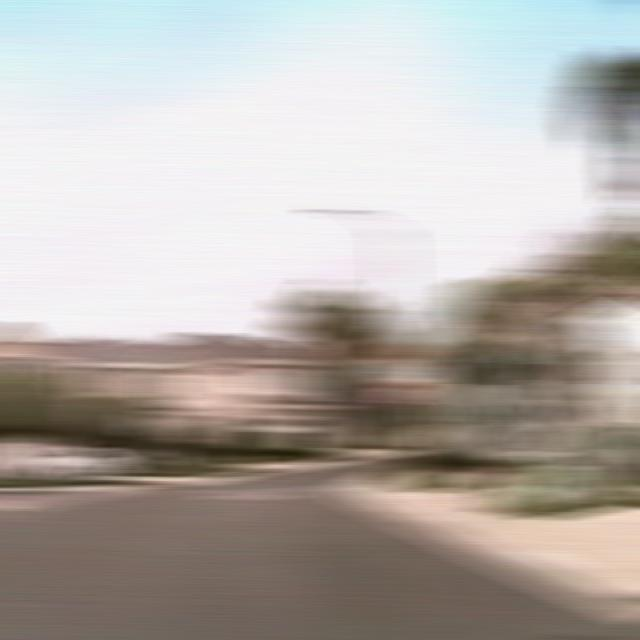stop: (380, 380, 419, 407)
